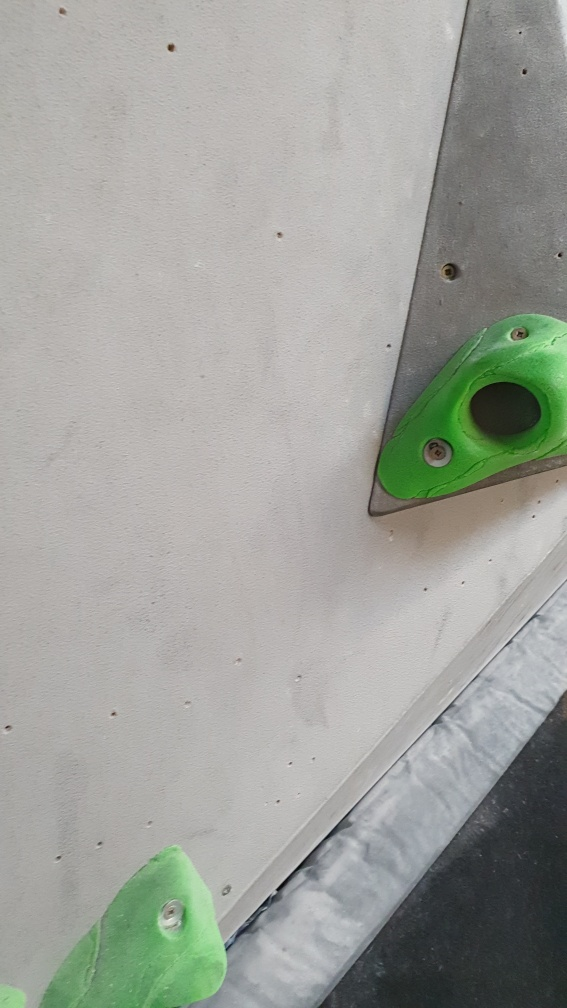Pocket: (376, 313, 567, 504)
